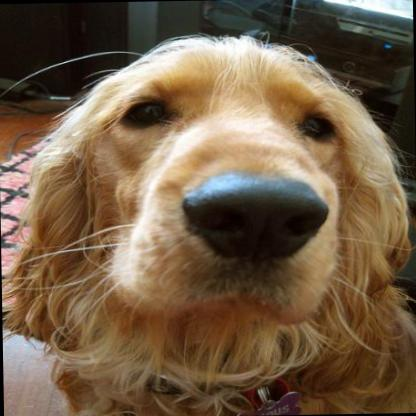cocker_spaniel: (0, 28, 412, 415)
